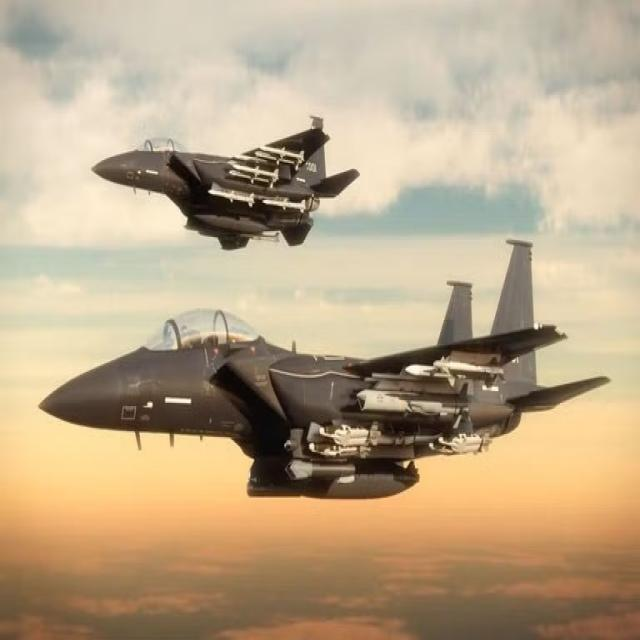F15: (12, 231, 627, 548), (80, 83, 368, 266)
